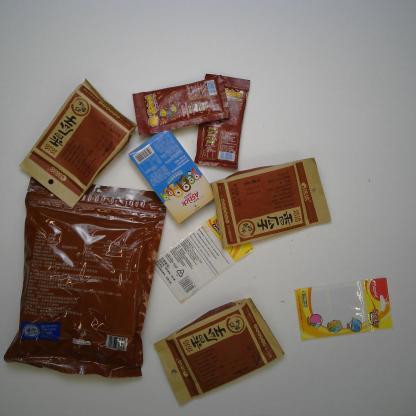Candy: (130, 71, 231, 138), (194, 72, 252, 169)
Dessert: (127, 130, 216, 224)
Dried Food: (1, 174, 167, 382), (17, 76, 136, 212), (150, 294, 288, 407), (209, 154, 331, 250)
Stationery: (152, 216, 256, 306), (295, 276, 394, 342)
